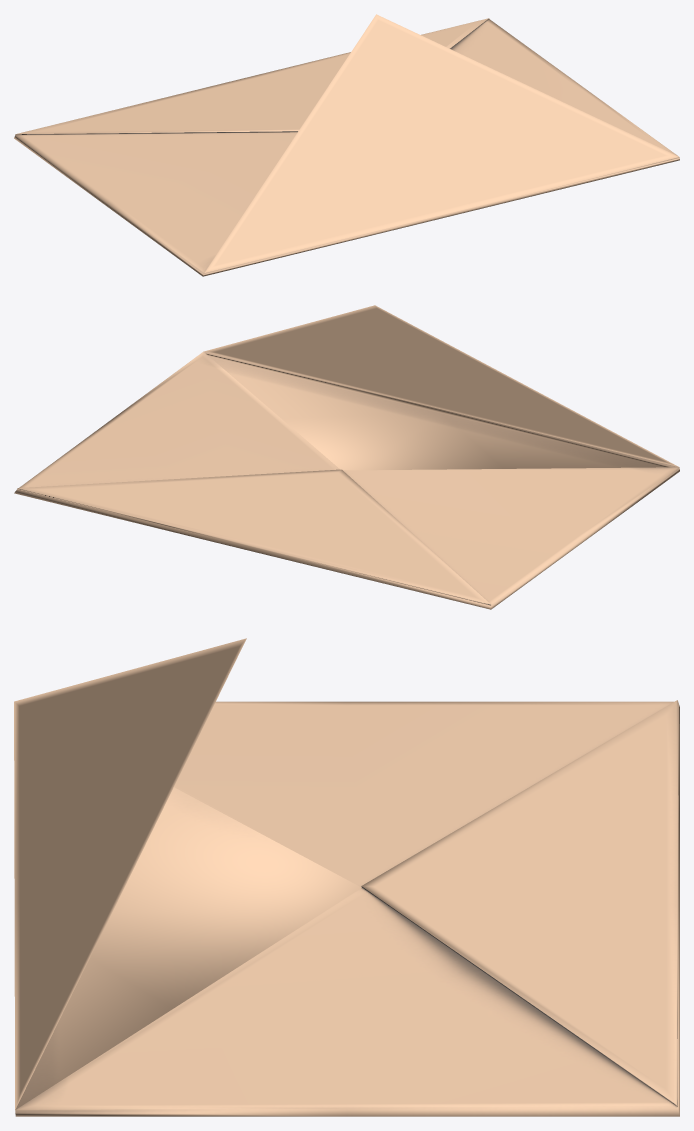
Rendered from envelope.glb.
3 views of the same model, one above another, from view 1: azimuth 30°, elevation 25°; view 2: azimuth 150°, elevation 25°; view 3: azimuth 270°, elevation 25° (orthographic). The views are drawn at different scales.
Bounding box in the file's own units: 0.24 × 0.075 × 0.165.
1 material, 1 textured.
